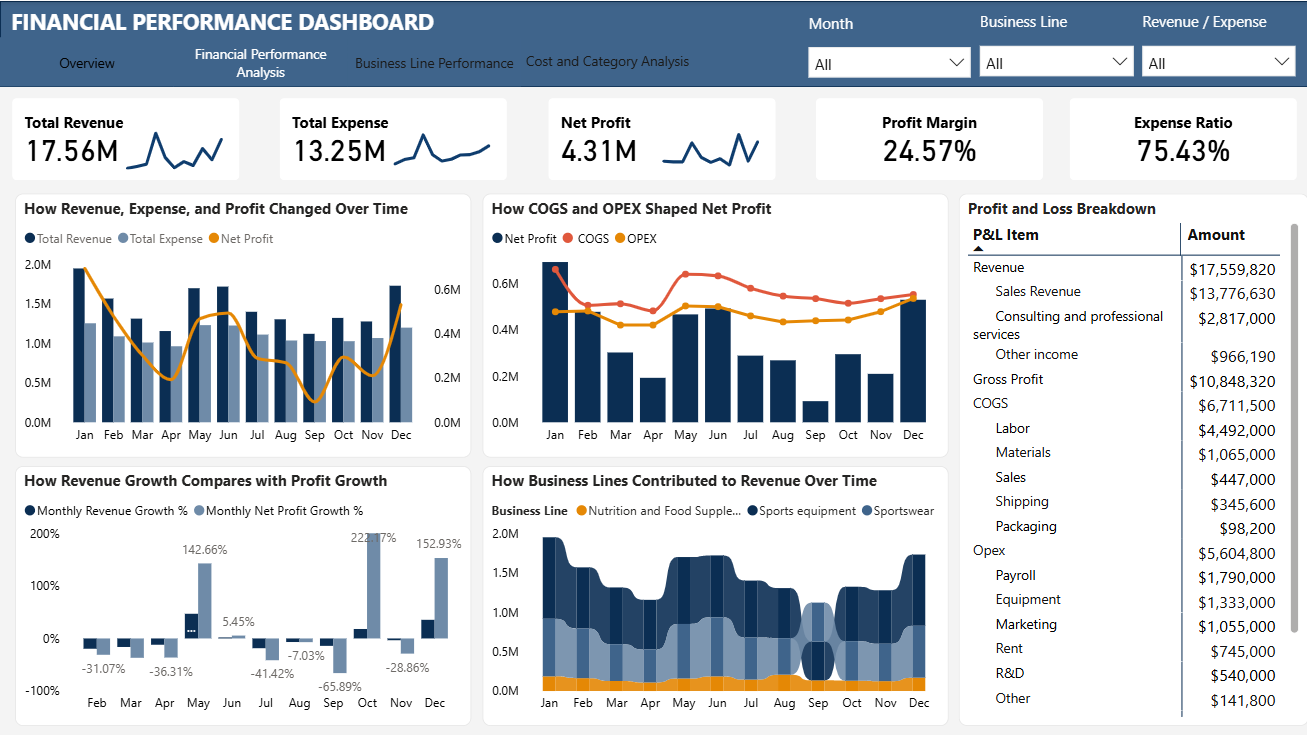

The page's visual inventory and layout, read from the dashboard file:
{"tool":"powerbi","page":{"name":"Financial Performance Analysis","canvas":[1280,720],"ordinal":1},"visuals":[{"type":"shape","box":[0,0,1280.3,84.2],"z":0},{"type":"cardVisual","fields":{"Data":["Measure.Expense Ratio"]},"box":[1034.1,83.2,246.2,104.9],"z":0,"group":"g9"},{"type":"textbox","box":[0,0,491.6,51.4],"z":1000},{"type":"group","id":"g1","title":"Group 3","box":[0,83.2,259.7,104.9],"z":1000,"group":"g9"},{"type":"group","id":"g2","title":"Group 3","box":[262,83.2,260.1,105.2],"z":2000,"group":"g9"},{"type":"actionButton","box":[170,35.5,170,47.7],"z":3000},{"type":"slicer","fields":{"Values":["Dim_BusinessLine.Business Line"]},"box":[953.8,39.3,160,42.8],"z":3000,"group":"g6"},{"type":"slicer","fields":{"Values":["Dim_AccountType.Revenue / Expense Group"]},"box":[1113.2,39.9,159.4,42.5],"z":3000,"group":"g7"},{"type":"slicer","fields":{"Values":["Dim_Date.Month"]},"box":[786.8,40.6,167.8,42.8],"z":3000,"group":"g5"},{"type":"group","id":"g3","title":"Group 3","box":[524.3,83.2,259.3,104.9],"z":3000,"group":"g9"},{"type":"textbox","box":[953.8,5.1,153.6,35.5],"z":4000,"group":"g6"},{"type":"textbox","box":[1113.6,5.1,153.4,35.7],"z":4000,"group":"g7"},{"type":"textbox","box":[786.8,6.4,161.1,35.5],"z":4000,"group":"g5"},{"type":"actionButton","box":[339.9,35.5,170,47.7],"z":4000},{"type":"group","id":"g4","title":"Group 3","box":[785.9,83.2,246.2,104.9],"z":4000,"group":"g9"},{"type":"actionButton","box":[509.9,33.7,168.8,47.7],"z":5000},{"type":"cardVisual","fields":{"Data":["Measure.Total Revenue"]},"box":[0,83.2,246.6,104.9],"z":5000,"group":"g1"},{"type":"cardVisual","fields":{"Data":["Measure.Total Expense"]},"box":[262,83.2,246.6,104.9],"z":5000,"group":"g2"},{"type":"cardVisual","fields":{"Data":["Measure.Net Profit"]},"box":[524.3,83.2,246.6,104.9],"z":5000,"group":"g3"},{"type":"cardVisual","fields":{"Data":["Measure.Profit Margin"]},"box":[785.9,83.2,246.2,104.9],"z":5000,"group":"g4"},{"type":"group","id":"g5","title":"Group 2","box":[786.8,6.4,167,76.5],"z":6000},{"type":"group","id":"g6","title":"Group 2","box":[953.8,5.1,159.4,76.5],"z":7000},{"type":"group","id":"g7","title":"Group 2","box":[1113.2,5.1,159.4,77.8],"z":8000},{"type":"lineClusteredColumnComboChart","title":"How COGS and OPEX Shaped Net Profit","fields":{"Y":["Measure.Net Profit"],"Y2":["Measure.Total COGS","Measure.Total OPEX"],"Category":["Dim_Date.Year Hierarchy.Year","Dim_Date.Year Hierarchy.Quarter","Dim_Date.Year Hierarchy.Month Short"]},"box":[472,188.3,456.1,258],"z":9000},{"type":"group","id":"g8","title":"Group 2","box":[14.7,188.3,446.3,258],"z":10000},{"type":"ribbonChart","title":"How Business Lines Contributed to Revenue Over Time","fields":{"Category":["Dim_Date.Year Hierarchy.Year","Dim_Date.Year Hierarchy.Quarter","Dim_Date.Year Hierarchy.Month Short"],"Y":["Measure.Total Revenue"],"Series":["Dim_BusinessLine.Business Line"]},"box":[472,454.9,456.1,254.3],"z":11000},{"type":"clusteredColumnChart","title":"How Revenue Growth Compares with Profit Growth","fields":{"Y":["Measure.Monthly Revenue Growth %","Measure.Monthly Net Profit Growth %"],"Category":["Dim_Date.Year Hierarchy.Year","Dim_Date.Year Hierarchy.Quarter","Dim_Date.Year Hierarchy.Month Short"]},"box":[14.7,454.9,446.3,254.3],"z":12000},{"type":"pivotTable","title":"Profit and Loss Breakdown","fields":{"Rows":["PL_Structure.Display Line"],"Values":["Measure.PL Value"]},"box":[937.9,188.3,342.4,520.9],"z":13000},{"type":"group","id":"g9","title":"Group 1","box":[0,83.2,1280.3,105.2],"z":14000},{"type":"actionButton","title":"Overview","box":[0,35.5,170,47.7],"z":14001},{"type":"lineClusteredColumnComboChart","title":"How Revenue, Expense, and Profit Changed Over Time","fields":{"Y":["Measure.Total Revenue","Measure.Total Expense"],"Y2":["Measure.Net Profit"],"Category":["Dim_Date.Year Hierarchy.Quarter","Dim_Date.Year Hierarchy.Month Short"]},"box":[14.7,188.3,446.3,258],"z":15001,"group":"g8"},{"type":"lineChart","fields":{"Y":["Measure.Monthly Revenue Growth %"],"Category":["Dim_Date.Month"]},"box":[92.3,109.5,167.4,61.3],"z":16000,"group":"g1"},{"type":"lineChart","fields":{"Category":["Dim_Date.Month"],"Y":["Measure.Monthly Expense Growth %"]},"box":[354.3,109.5,167.4,61.3],"z":16000,"group":"g2"},{"type":"lineChart","fields":{"Category":["Dim_Date.Month"],"Y":["Measure.Monthly Net Profit Growth %"]},"box":[616.6,109.5,167.4,61.3],"z":16000,"group":"g3"}]}

Visuals, with their boxes in screenshot pixels (x1, y1, x2, y2), scaled from the page's 1280x720 canvas onto the 1307x735 screenshot:
shape: {"left": 0, "top": 0, "right": 1306, "bottom": 86}
cardVisual - Measure.Expense Ratio: {"left": 1056, "top": 85, "right": 1306, "bottom": 192}
textbox: {"left": 0, "top": 0, "right": 502, "bottom": 52}
"Group 3" group: {"left": 0, "top": 85, "right": 265, "bottom": 192}
"Group 3" group: {"left": 268, "top": 85, "right": 533, "bottom": 192}
actionButton: {"left": 174, "top": 36, "right": 347, "bottom": 85}
slicer - Dim_BusinessLine.Business Line: {"left": 974, "top": 40, "right": 1137, "bottom": 84}
slicer - Dim_AccountType.Revenue / Expense Group: {"left": 1137, "top": 41, "right": 1299, "bottom": 84}
slicer - Dim_Date.Month: {"left": 803, "top": 41, "right": 975, "bottom": 85}
"Group 3" group: {"left": 535, "top": 85, "right": 800, "bottom": 192}
textbox: {"left": 974, "top": 5, "right": 1131, "bottom": 41}
textbox: {"left": 1137, "top": 5, "right": 1294, "bottom": 42}
textbox: {"left": 803, "top": 7, "right": 968, "bottom": 43}
actionButton: {"left": 347, "top": 36, "right": 521, "bottom": 85}
"Group 3" group: {"left": 802, "top": 85, "right": 1054, "bottom": 192}
actionButton: {"left": 521, "top": 34, "right": 693, "bottom": 83}
cardVisual - Measure.Total Revenue: {"left": 0, "top": 85, "right": 252, "bottom": 192}
cardVisual - Measure.Total Expense: {"left": 268, "top": 85, "right": 519, "bottom": 192}
cardVisual - Measure.Net Profit: {"left": 535, "top": 85, "right": 787, "bottom": 192}
cardVisual - Measure.Profit Margin: {"left": 802, "top": 85, "right": 1054, "bottom": 192}
"Group 2" group: {"left": 803, "top": 7, "right": 974, "bottom": 85}
"Group 2" group: {"left": 974, "top": 5, "right": 1137, "bottom": 83}
"Group 2" group: {"left": 1137, "top": 5, "right": 1299, "bottom": 85}
"How COGS and OPEX Shaped Net Profit" lineClusteredColumnComboChart: {"left": 482, "top": 192, "right": 948, "bottom": 456}
"Group 2" group: {"left": 15, "top": 192, "right": 471, "bottom": 456}
"How Business Lines Contributed to Revenue Over Time" ribbonChart: {"left": 482, "top": 464, "right": 948, "bottom": 724}
"How Revenue Growth Compares with Profit Growth" clusteredColumnChart: {"left": 15, "top": 464, "right": 471, "bottom": 724}
"Profit and Loss Breakdown" pivotTable: {"left": 958, "top": 192, "right": 1306, "bottom": 724}
"Group 1" group: {"left": 0, "top": 85, "right": 1306, "bottom": 192}
"Overview" actionButton: {"left": 0, "top": 36, "right": 174, "bottom": 85}
"How Revenue, Expense, and Profit Changed Over Time" lineClusteredColumnComboChart: {"left": 15, "top": 192, "right": 471, "bottom": 456}
lineChart - Measure.Monthly Revenue Growth % x Dim_Date.Month: {"left": 94, "top": 112, "right": 265, "bottom": 174}
lineChart - Dim_Date.Month x Measure.Monthly Expense Growth %: {"left": 362, "top": 112, "right": 533, "bottom": 174}
lineChart - Dim_Date.Month x Measure.Monthly Net Profit Growth %: {"left": 630, "top": 112, "right": 801, "bottom": 174}
